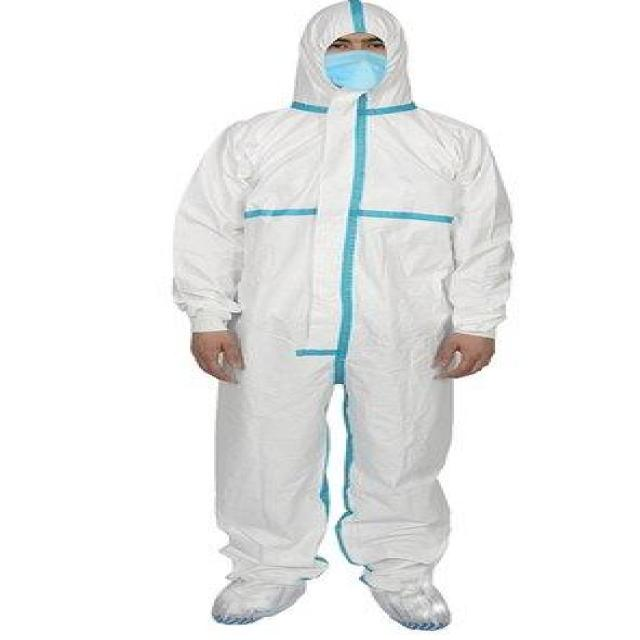Coverall: (167, 0, 513, 634)
Mask: (322, 49, 387, 88)
